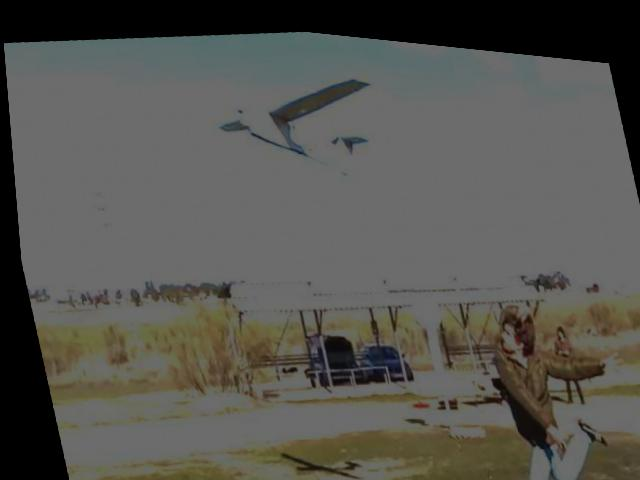iha: (208, 59, 388, 191)
